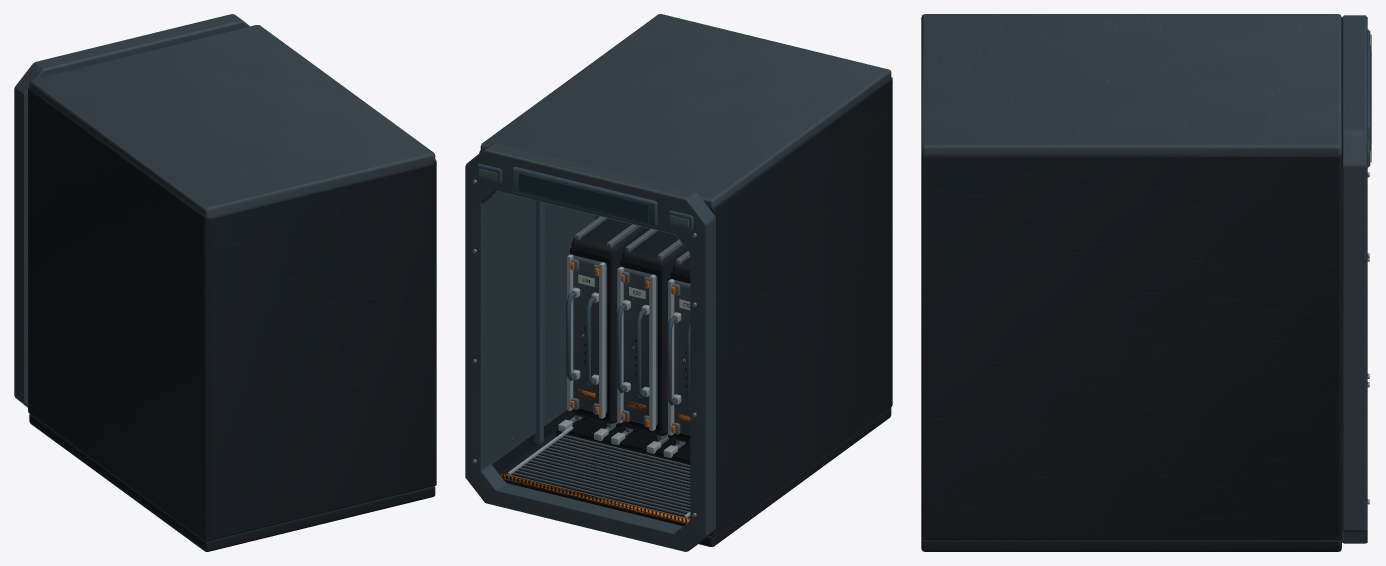
Rendered from BatteryBay_LOD0.fbx.
3 views of the same model, side by side, from view 1: azimuth 30°, elevation 25°; view 2: azimuth 150°, elevation 25°; view 3: azimuth 270°, elevation 25° (orthographic). The views are drawn at different scales.
Parts seen in each view (by area): view 1: Housing, Frame; view 2: Housing, Frame, Cassette04, Cassette03, Cassette02, Backplane, ActiveDisplay; view 3: Housing, Frame.
Part boxes in pixels (<box>): Housing: <box>28,25,436,551</box>; Frame: <box>14,14,249,407</box>; Housing: <box>479,14,892,546</box>; Frame: <box>465,142,715,551</box>; Cassette04: <box>566,216,650,428</box>; Cassette03: <box>616,229,687,440</box>; Cassette02: <box>667,251,690,444</box>; Backplane: <box>556,415,690,463</box>; ActiveDisplay: <box>518,173,648,222</box>; Housing: <box>921,14,1341,551</box>; Frame: <box>1342,15,1370,543</box>.
Bounding box in the file's own units: 2.3 × 3.22 × 3.17.
